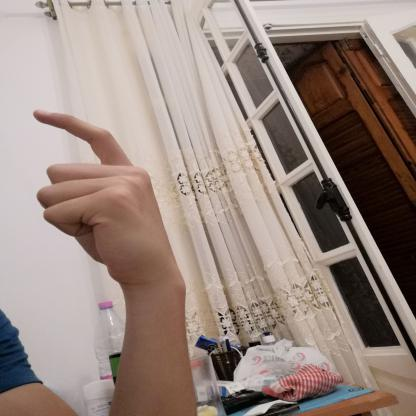RAA: (14, 98, 192, 292)
